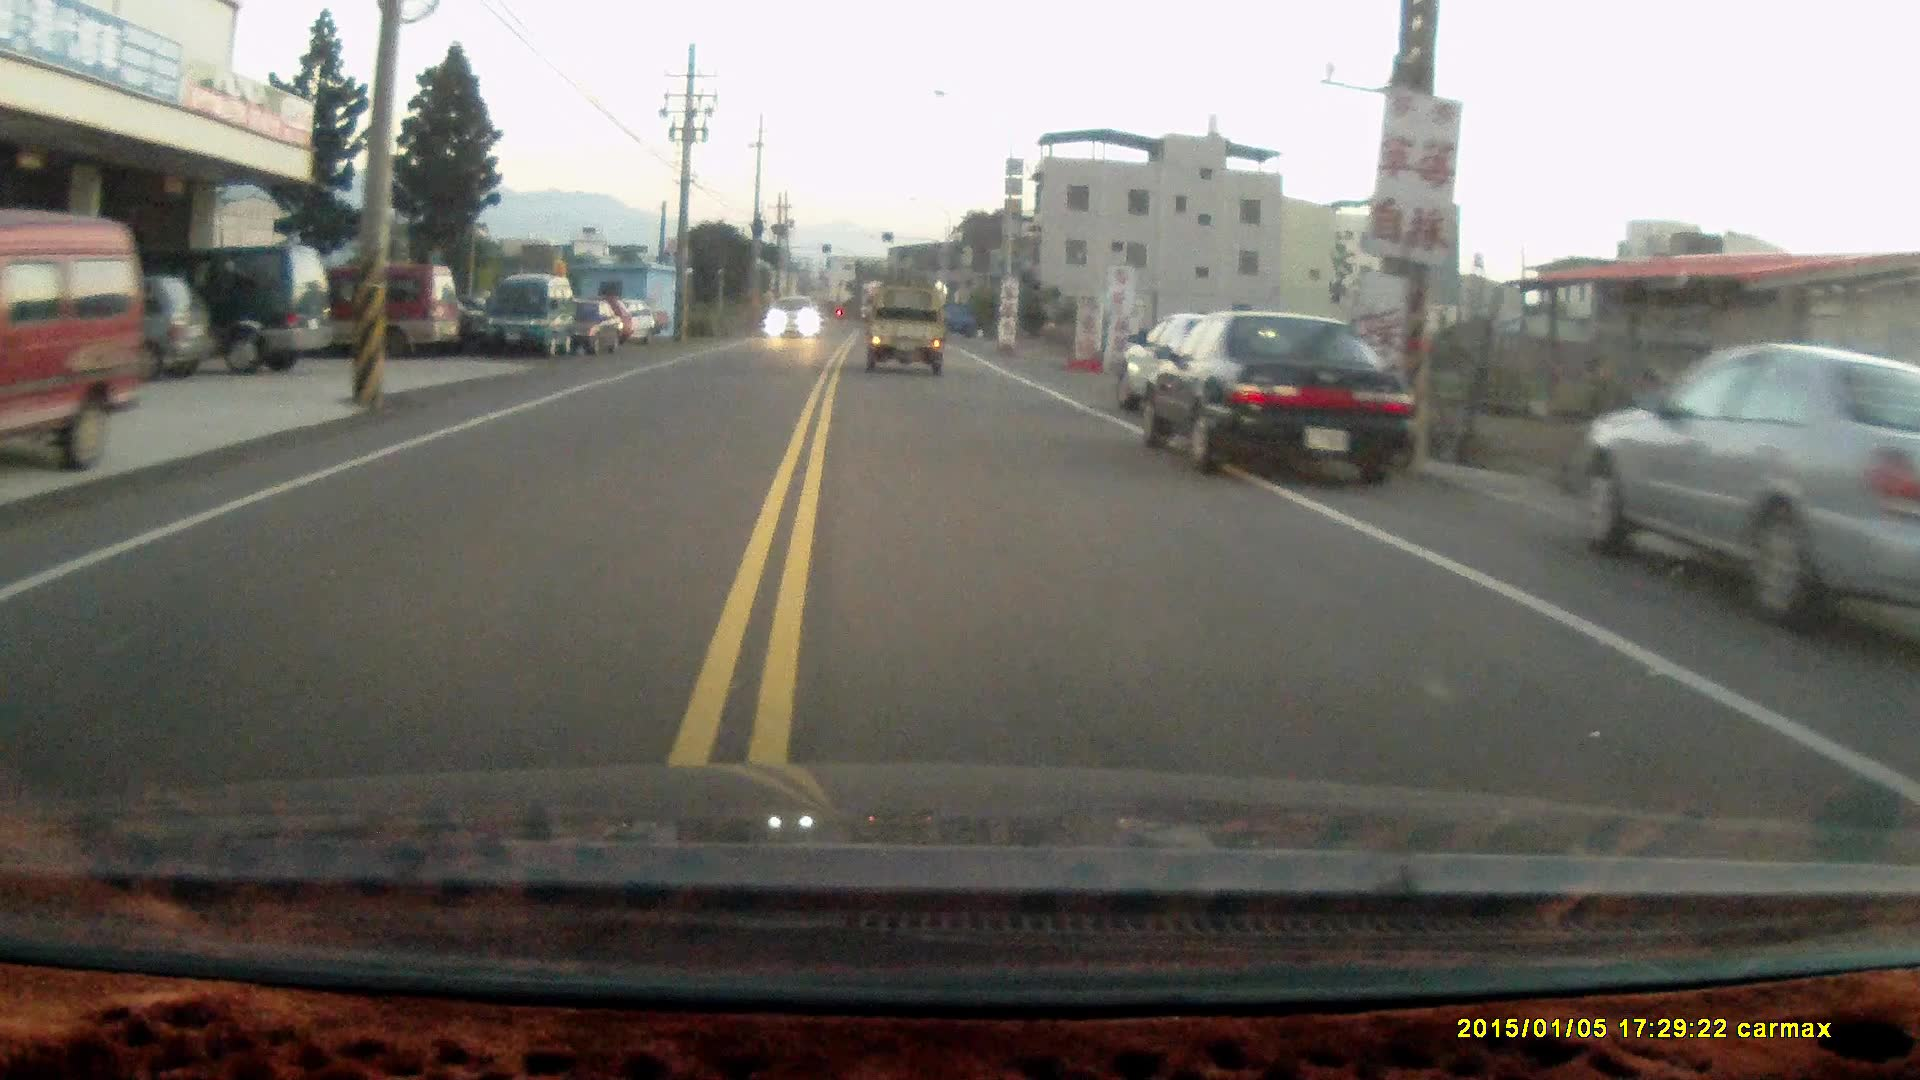vehicle: (1578, 340, 1920, 651), (1135, 313, 1415, 493), (1, 220, 144, 483), (95, 243, 338, 371), (1118, 318, 1300, 431), (266, 269, 462, 364), (475, 284, 576, 369), (862, 291, 949, 382), (551, 302, 624, 360), (762, 302, 822, 345)
